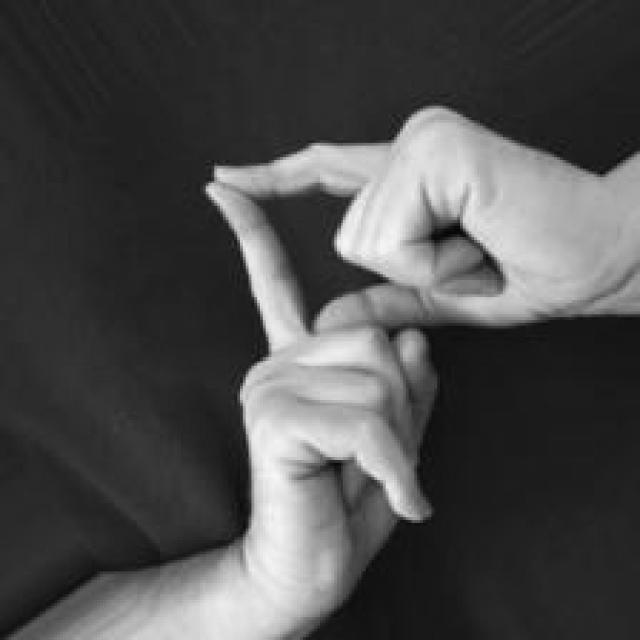D: (201, 101, 610, 640)
